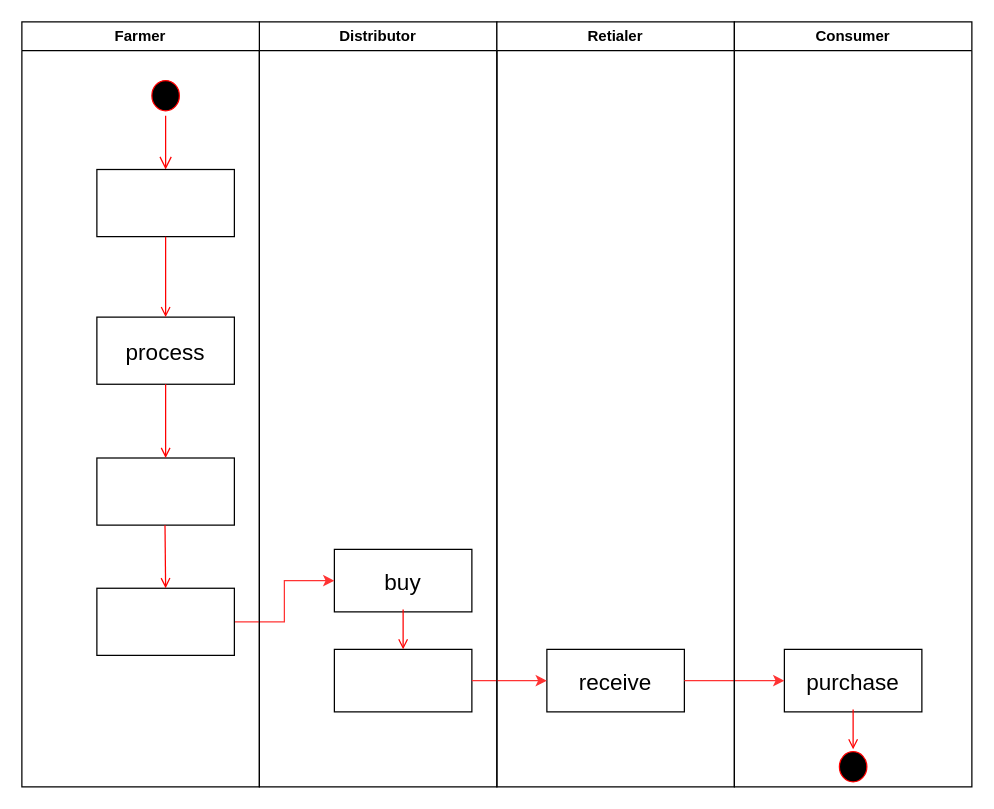
The diagram is 994 pixels wide and 809 high, and some of its shapes have lost their labels. Here are the shapes that lost their labels. From the top down, the centre of each, then its label:
At (165,202): "harvest".
At (165,491): "pack".
At (165,621): "put up for sale".
At (402,680): "ship".
